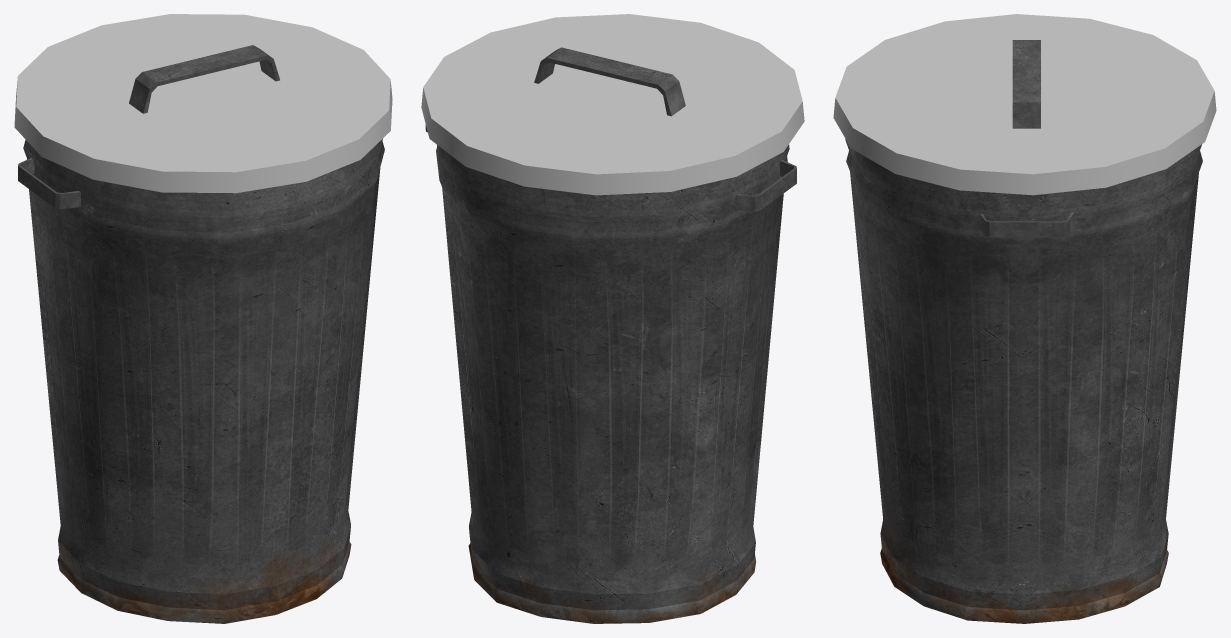
File: TrashCans.FBX
The picture shows the model from 3 angles, left to right: view 1: azimuth 30°, elevation 25°; view 2: azimuth 150°, elevation 25°; view 3: azimuth 270°, elevation 25°; orthographic projection.
Parts seen in each view (by area): view 1: TrashCan; view 2: TrashCan; view 3: TrashCan.
Boxes of the visible parts, x1,y1,x2,y2 form: TrashCan: [14, 14, 392, 623]; TrashCan: [421, 14, 804, 623]; TrashCan: [833, 14, 1216, 623].
Size of the model in its own units: 21.85 by 31.25 by 21.78.
